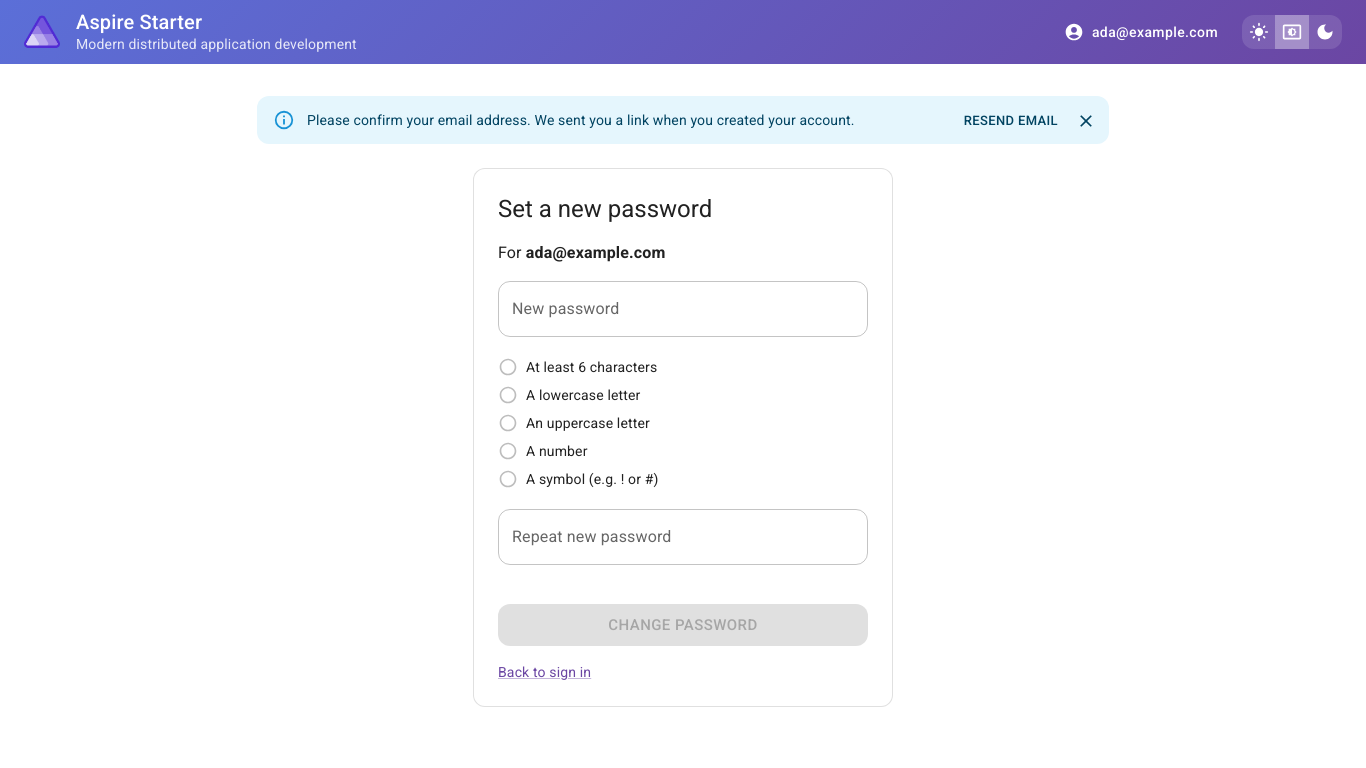
ResetPasswordPage › signs out a signed-in user after the change
In the password field labelled "New password": (683,309) 498,281 -> 868,337, type "N3wPassw0rd!"
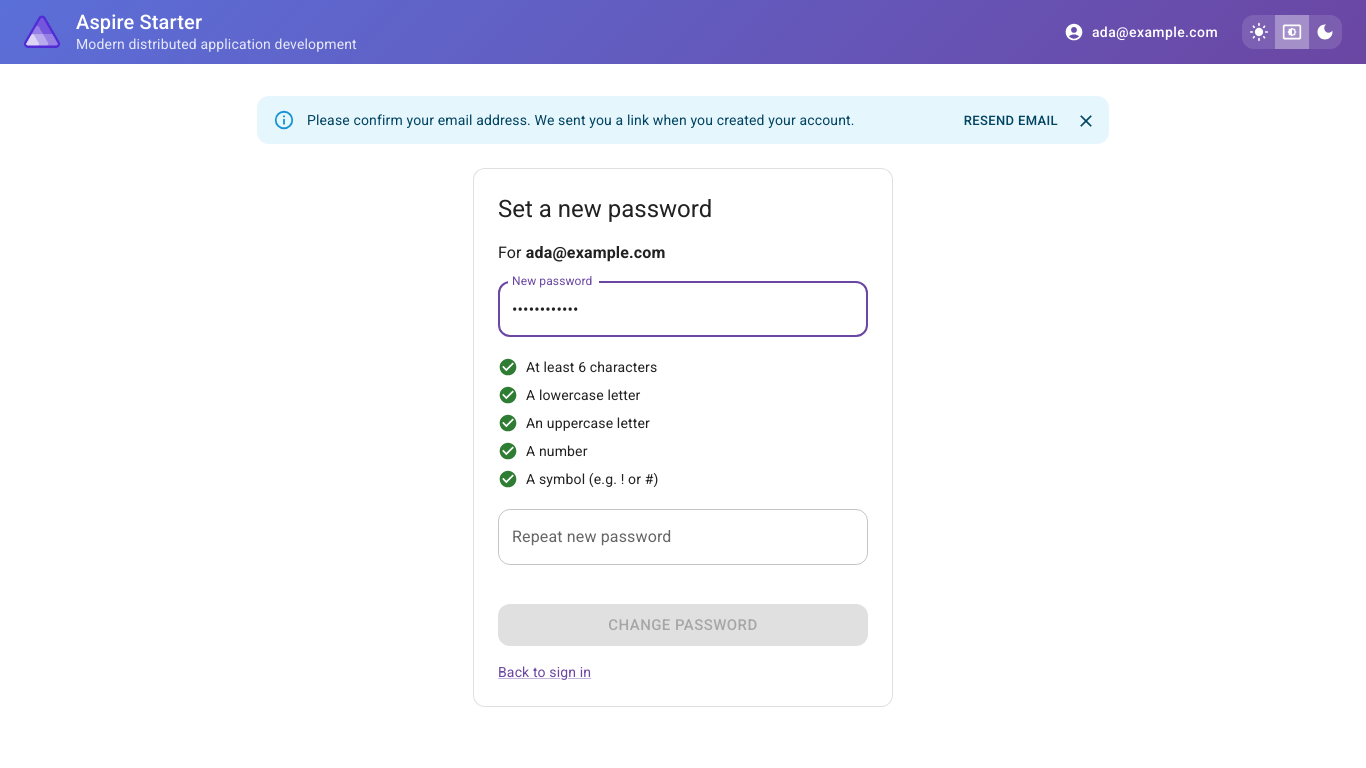
In the password field labelled "Repeat new password": (683,537) 498,509 -> 868,565, type "N3wPassw0rd!"
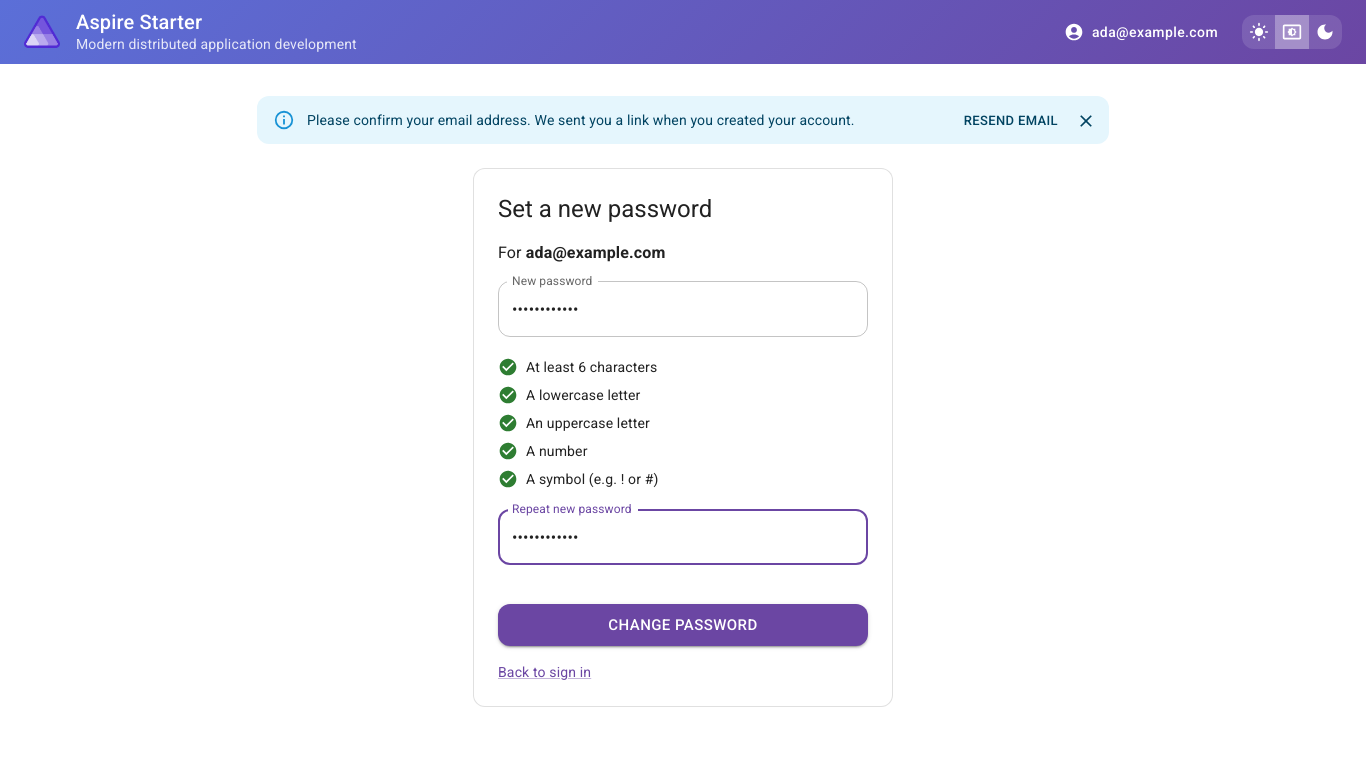
Click the button "Change password": (683,625) 498,604 -> 868,646
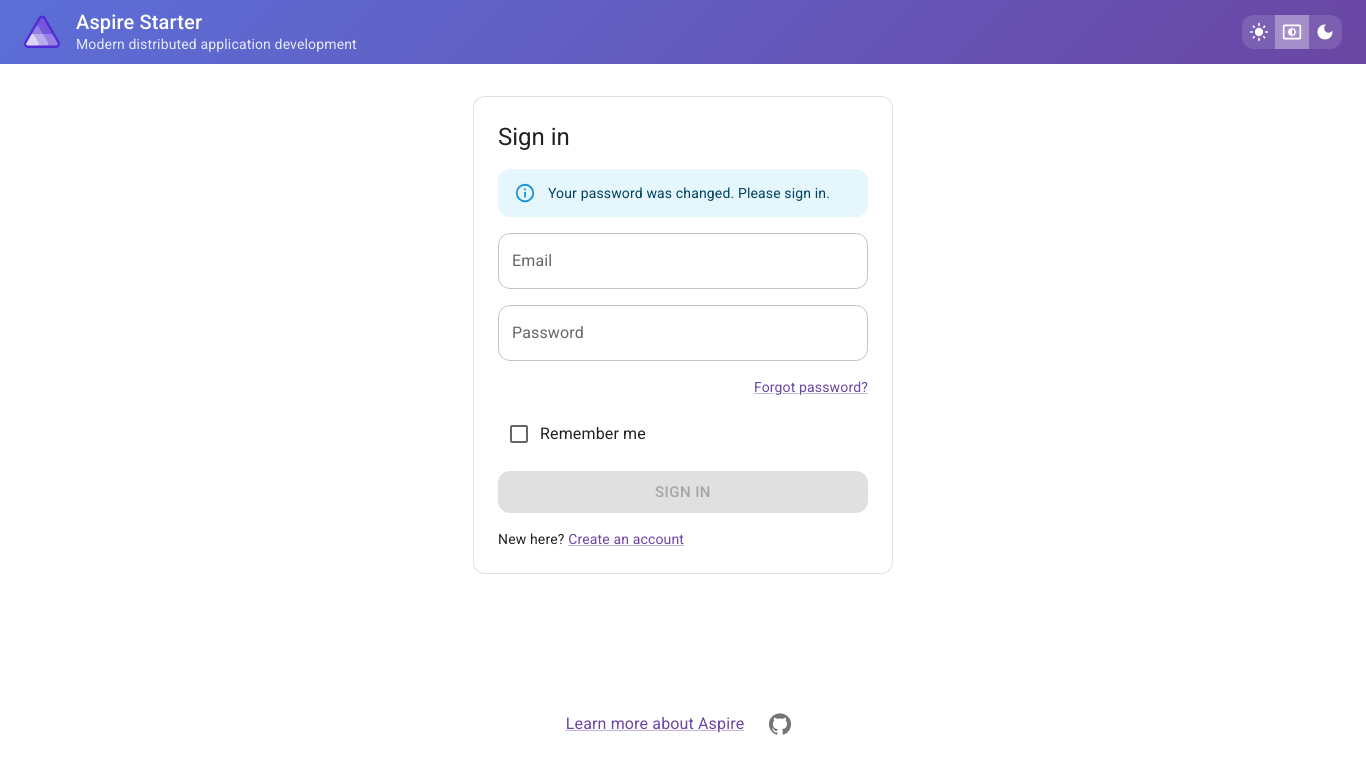
Now the text "Your password was changed. Please sign in." is shown, box 548,185 -> 830,201
